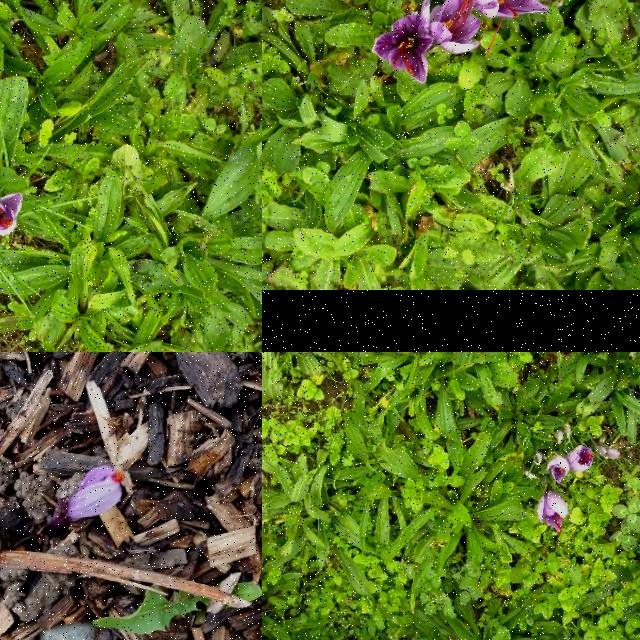flower: (372, 13, 434, 85), (473, 0, 548, 52), (64, 466, 122, 522), (420, 0, 480, 53), (536, 492, 568, 532), (0, 193, 22, 237), (568, 444, 594, 474), (546, 456, 570, 484)
